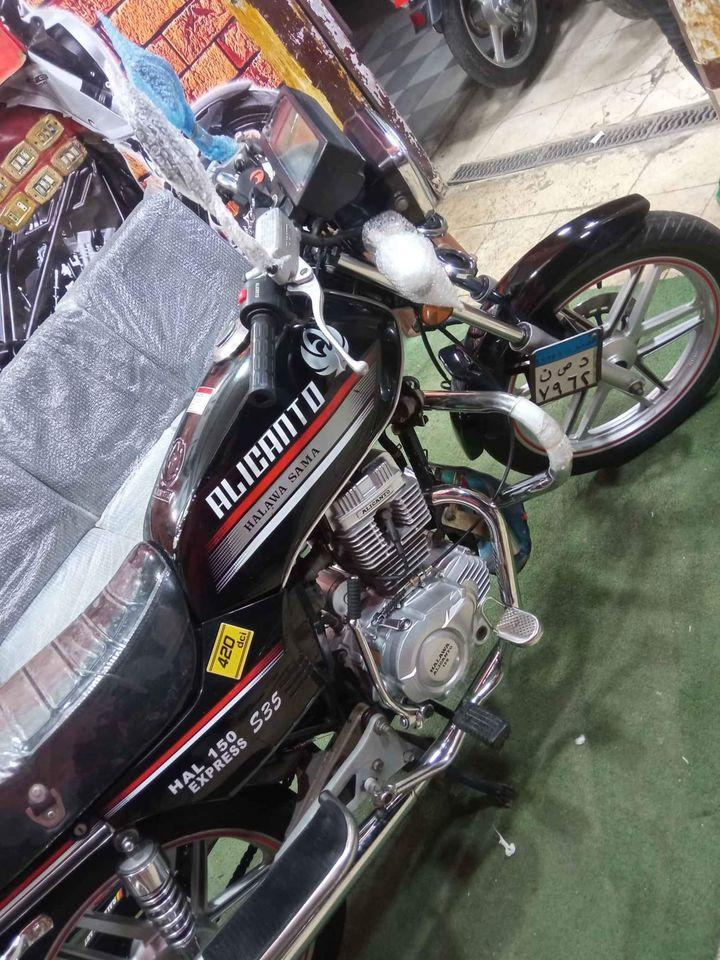License Plate: (531, 332, 606, 401)
